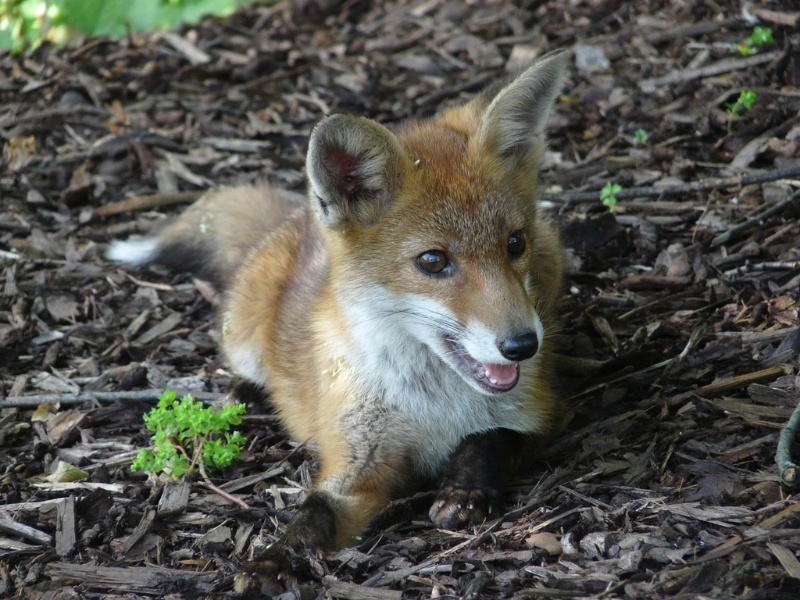fox: (110, 46, 577, 590)
